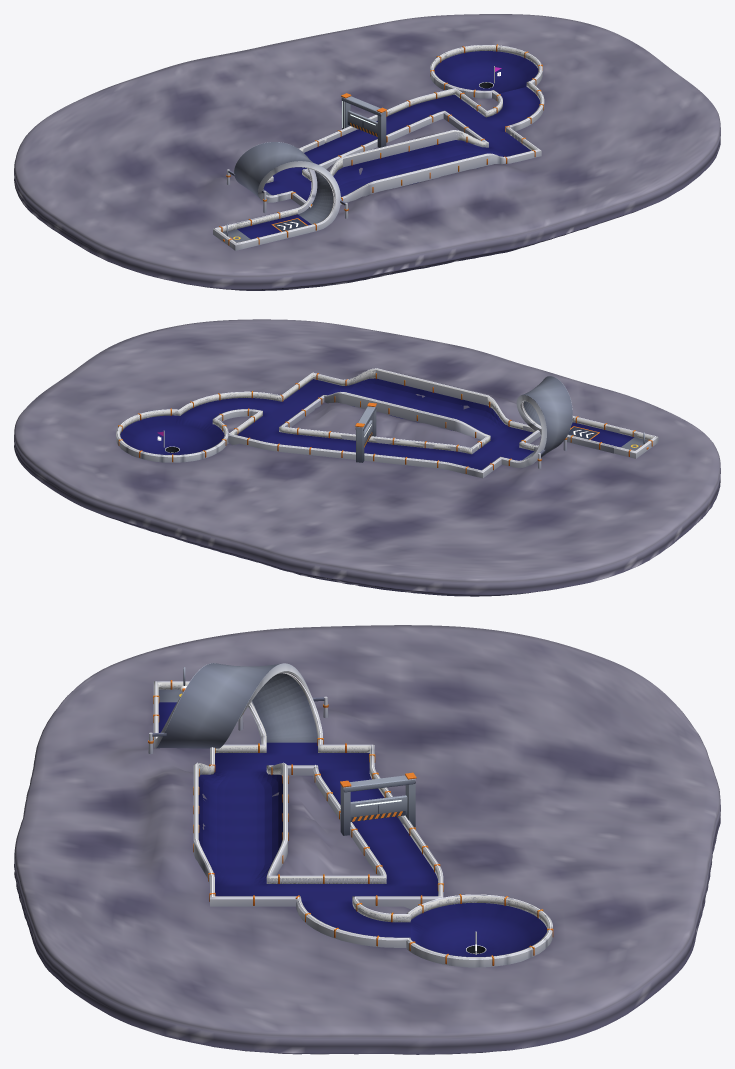
The model's file is course-18.glb.
3 views of the same model, one above another, from view 1: azimuth 30°, elevation 25°; view 2: azimuth 150°, elevation 25°; view 3: azimuth 270°, elevation 25° (orthographic). The views are drawn at different scales.
Parts seen in each view (by area): view 1: scenery-matte, floor-felt, rail-trim, rail-metal, scenery-satin, floor-metal, scenery-metal, obstacle-door-c; view 2: scenery-matte, floor-felt, rail-trim, rail-metal, scenery-satin, scenery-metal; view 3: scenery-matte, floor-felt, rail-trim, rail-metal, scenery-satin, floor-metal, scenery-metal, obstacle-door-c.
Boxes of the visible parts, left/top/right/bottom form: scenery-matte: left=14, top=14, right=720, bottom=290; floor-felt: left=237, top=51, right=540, bottom=239; rail-trim: left=213, top=44, right=544, bottom=250; rail-metal: left=214, top=45, right=543, bottom=244; scenery-satin: left=226, top=66, right=494, bottom=239; floor-metal: left=223, top=171, right=333, bottom=242; scenery-metal: left=341, top=96, right=386, bottom=147; obstacle-door-c: left=347, top=110, right=377, bottom=136; scenery-matte: left=14, top=319, right=720, bottom=596; floor-felt: left=120, top=378, right=634, bottom=470; rail-trim: left=116, top=368, right=658, bottom=478; rail-metal: left=116, top=369, right=657, bottom=472; scenery-satin: left=163, top=376, right=638, bottom=468; scenery-metal: left=355, top=405, right=376, bottom=462; scenery-matte: left=14, top=625, right=720, bottom=1054; floor-felt: left=158, top=702, right=546, bottom=956; rail-trim: left=153, top=663, right=553, bottom=967; rail-metal: left=154, top=672, right=552, bottom=958; scenery-satin: left=148, top=663, right=476, bottom=954; floor-metal: left=158, top=673, right=317, bottom=742; scenery-metal: left=340, top=775, right=415, bottom=835; obstacle-door-c: left=350, top=795, right=407, bottom=821.
Size of the model in its own units: 32.43 by 5.98 by 23.59.
